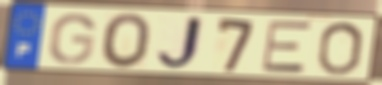7: (217, 15, 255, 74)
E: (260, 20, 314, 74)
G: (46, 12, 98, 66)
J: (153, 14, 206, 72)
O: (100, 12, 153, 71), (315, 20, 367, 76)
